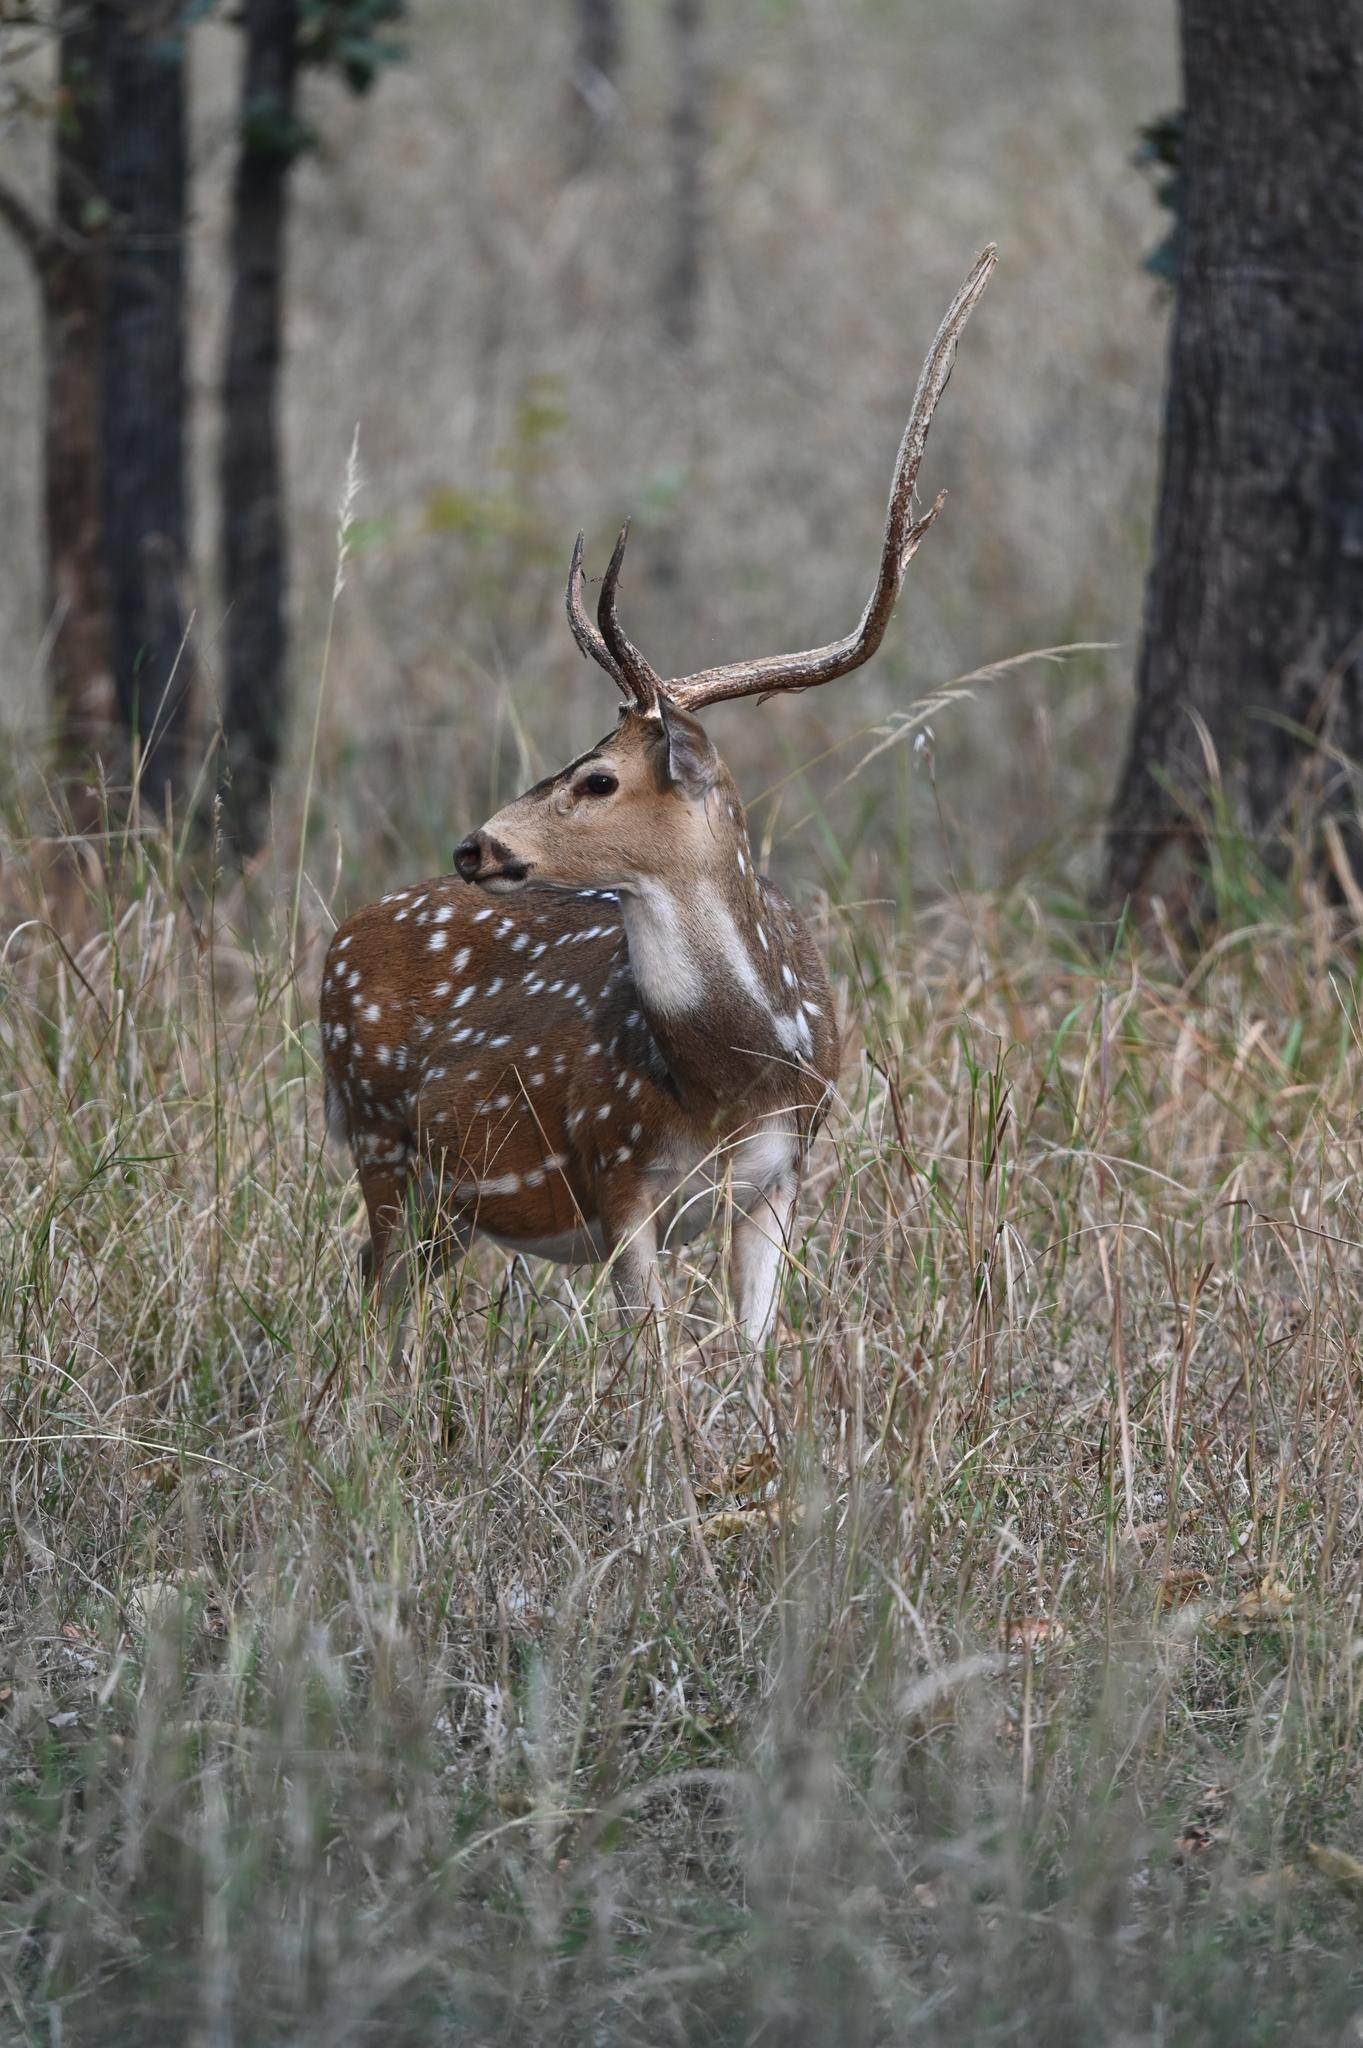Deer: (321, 243, 993, 1352)
